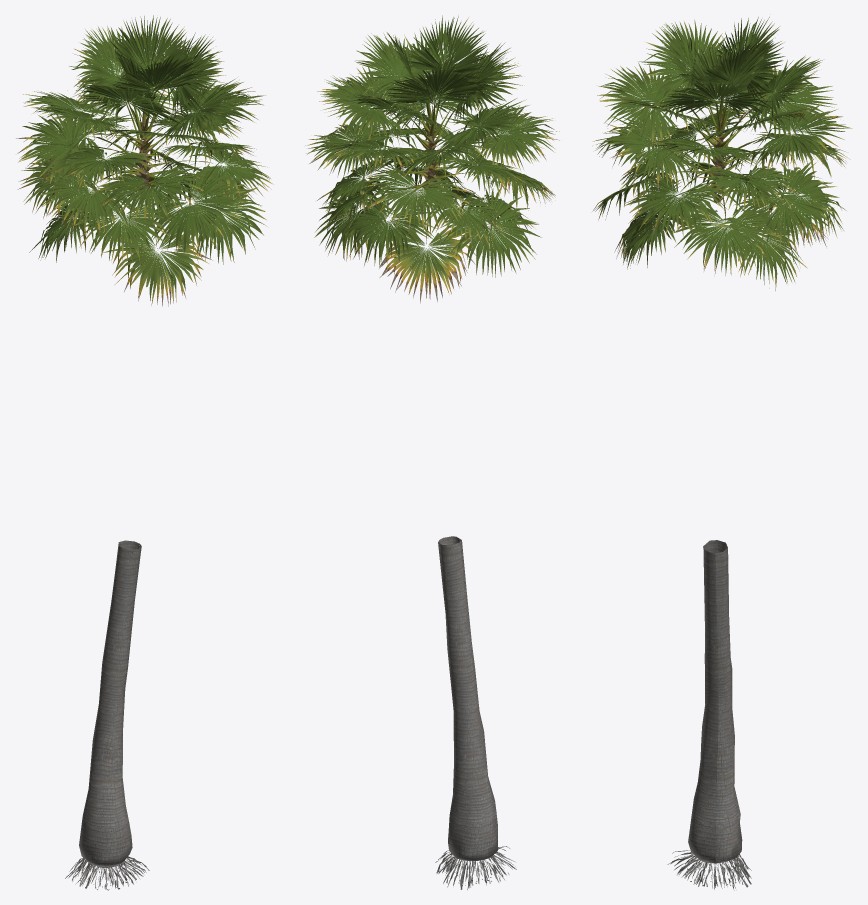
File: doum_palm.glb
The picture shows the model from 3 angles, left to right: view 1: azimuth 30°, elevation 25°; view 2: azimuth 150°, elevation 25°; view 3: azimuth 270°, elevation 25°; orthographic projection. The views are drawn at different scales.
Visible parts, largest first — view 1: Washingtonia_robusta_HD_V2_Wash leaf 01_0; view 2: Washingtonia_robusta_HD_V2_Wash leaf 01_0; view 3: Washingtonia_robusta_HD_V2_Wash leaf 01_0.
Part boxes in pixels (x1,y1,x2,y2): Washingtonia_robusta_HD_V2_Wash leaf 01_0: [16, 15, 273, 890]; Washingtonia_robusta_HD_V2_Wash leaf 01_0: [305, 15, 559, 889]; Washingtonia_robusta_HD_V2_Wash leaf 01_0: [592, 17, 852, 890].
Size of the model in its own units: 2.99 by 10.94 by 2.99.
Materials: 5 (5 with a texture image).
